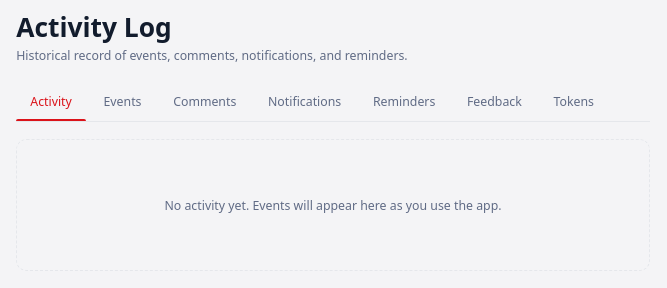
Test case: LogsPage › Events tab shows calendar event titles
Click the button "Events" at (122, 103), box [89, 86, 156, 121]
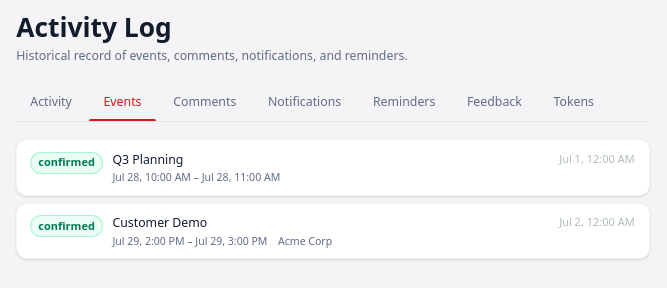
Expected: the text "Q3 Planning" is shown, [112, 151, 183, 168]
Expected: the text "Customer Demo" is shown, [112, 214, 207, 231]
